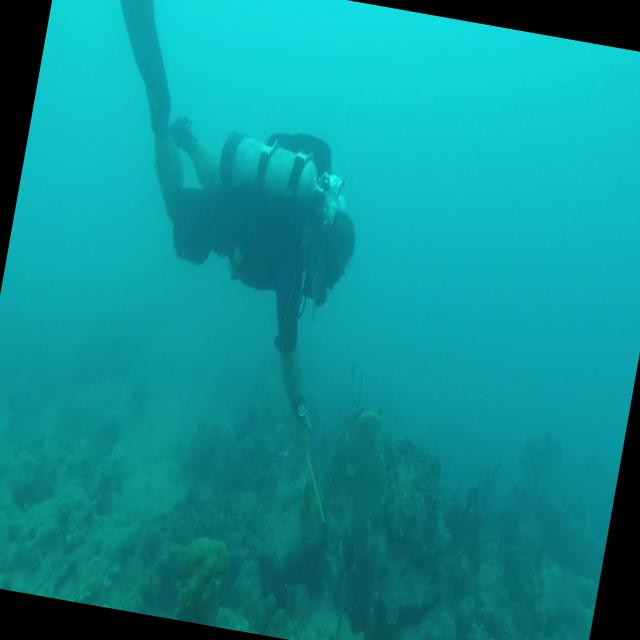human: (39, 0, 398, 447)
